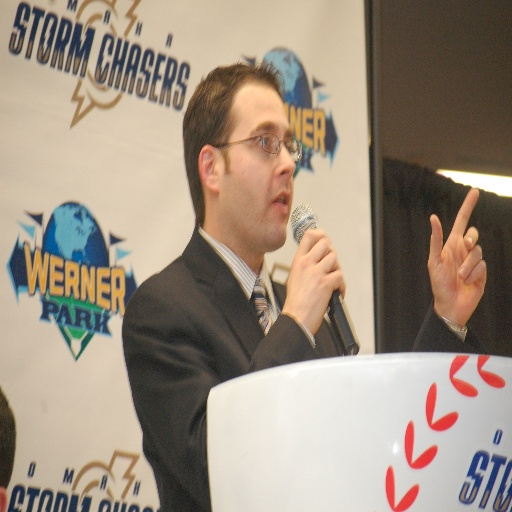hand: (427, 199, 491, 326), (284, 225, 346, 336)
